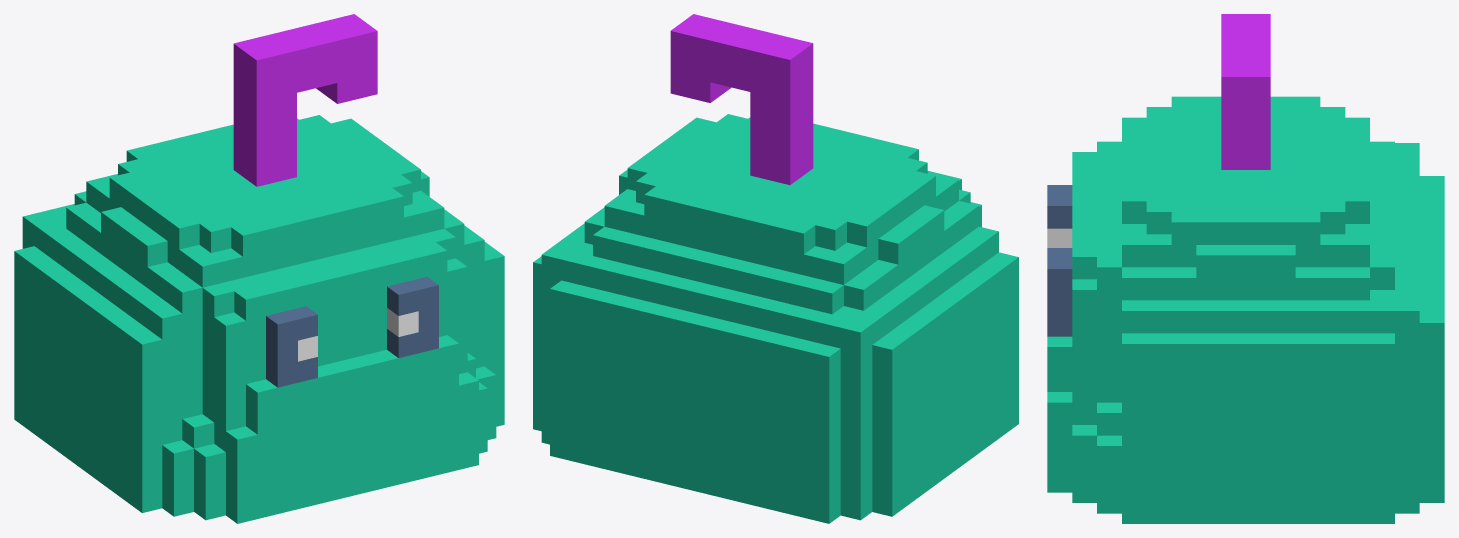
Rendered from PlayerCharacter.obj.
3 views of the same model, side by side, from view 1: azimuth 30°, elevation 25°; view 2: azimuth 150°, elevation 25°; view 3: azimuth 270°, elevation 25° (orthographic). The views are drawn at different scales.
Size of the model in its own units: 1.8 by 1.8 by 1.6.
1 material, 1 textured.
